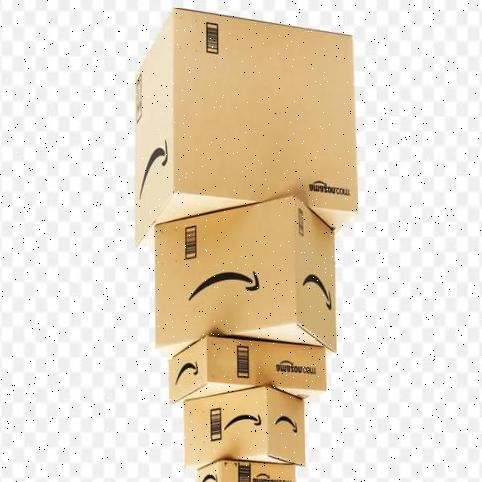Amazon: (135, 3, 360, 252), (154, 195, 337, 354), (185, 381, 308, 470), (171, 339, 332, 403), (196, 462, 301, 482)
